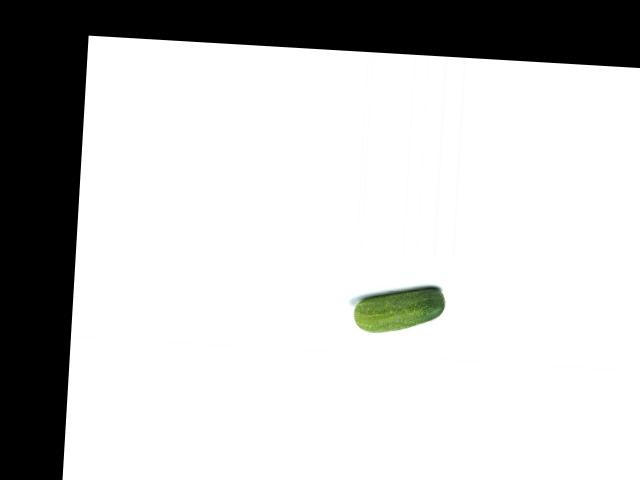cucumber: (353, 283, 445, 336)
